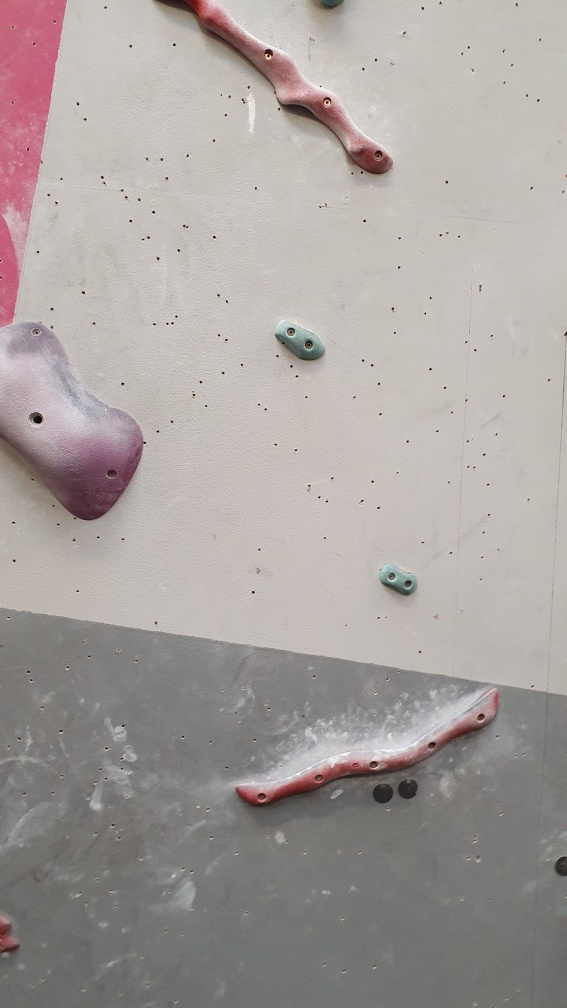Hand Start: (396, 775, 421, 804), (371, 780, 394, 808)
Pinch: (138, 1, 401, 173), (236, 688, 502, 810), (274, 320, 324, 363), (378, 565, 419, 600)
